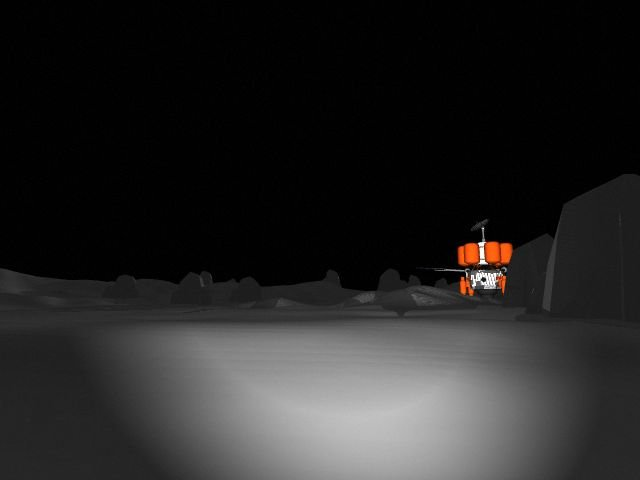homebase: (420, 215, 547, 302)
